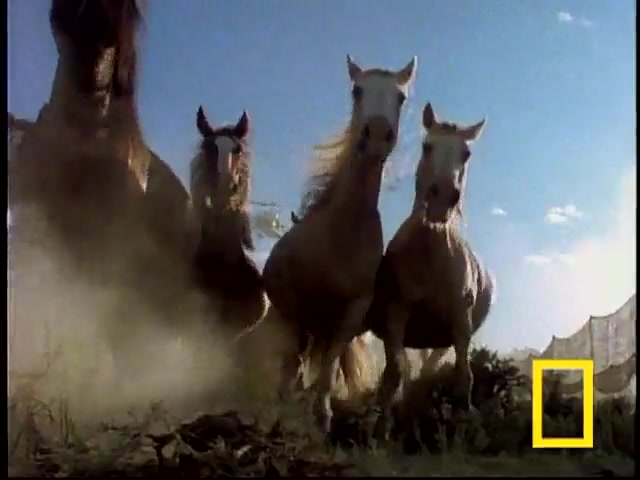horse: (369, 102, 498, 446)
